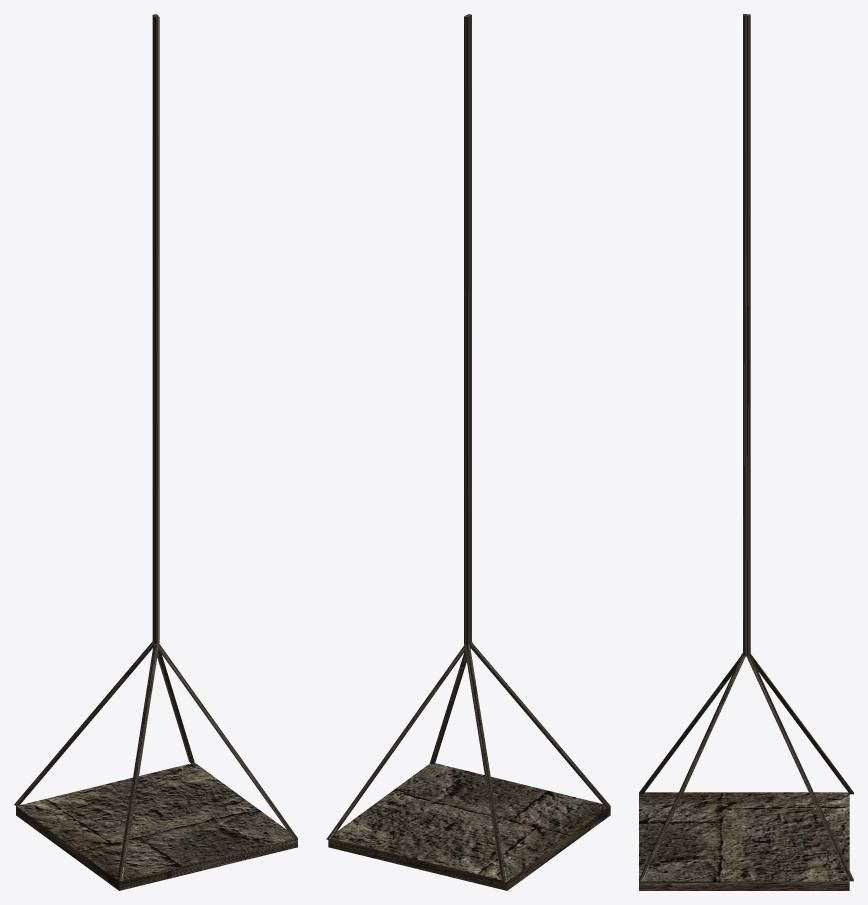
Rendered from elevator.glb.
3 views of the same model, side by side, from view 1: azimuth 30°, elevation 25°; view 2: azimuth 150°, elevation 25°; view 3: azimuth 270°, elevation 25° (orthographic). The views are drawn at different scales.
Visible parts, largest first — view 1: Cube, Cube.002, Cube.004, Cube.001, Cube.003; view 2: Cube, Cube.004, Cube.002, Cube.003, Cube.001; view 3: Cube, Cube.004, Cube.002, Cube.001, Cube.003.
Boxes of the visible parts, <box> form: Cube: <box>16,762,297,890</box>; Cube.002: <box>117,15,159,881</box>; Cube.004: <box>14,14,158,805</box>; Cube.001: <box>154,643,297,838</box>; Cube.003: <box>152,641,194,763</box>; Cube: <box>328,763,610,890</box>; Cube.004: <box>464,15,507,882</box>; Cube.002: <box>467,14,610,807</box>; Cube.003: <box>326,644,469,840</box>; Cube.001: <box>429,642,472,764</box>; Cube: <box>639,792,849,890</box>; Cube.004: <box>746,14,853,794</box>; Cube.002: <box>639,14,746,794</box>; Cube.001: <box>639,653,745,881</box>; Cube.003: <box>746,655,853,881</box>.
Size of the model in its own units: 2 by 8.71 by 2.04.
1 material, 1 textured.
